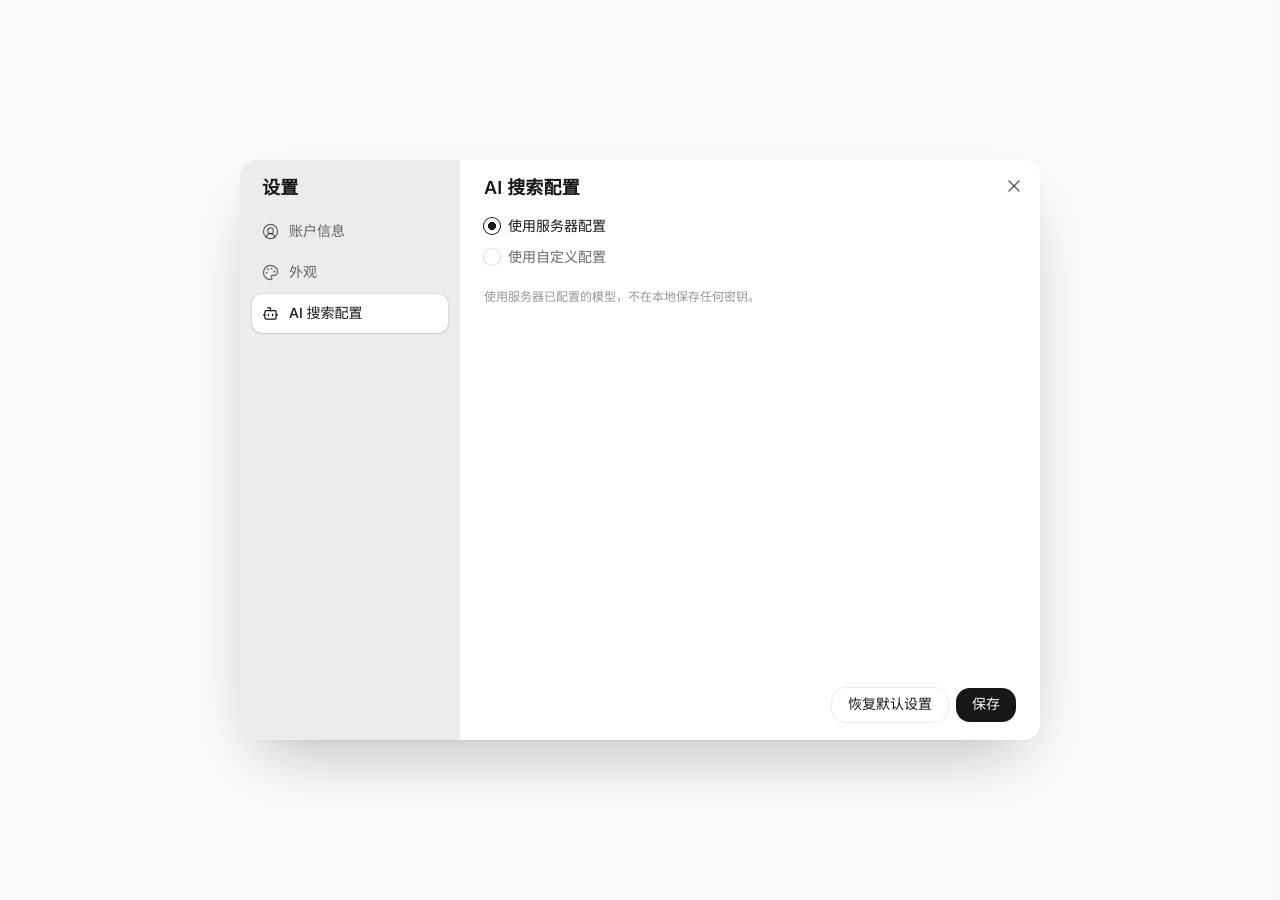
SettingsModal 语言下拉：点击空白收起 › 点击遮罩（弹窗卡片之外）同样收起菜单
Click the button "外观" at (350, 272), box [252,253,448,292]
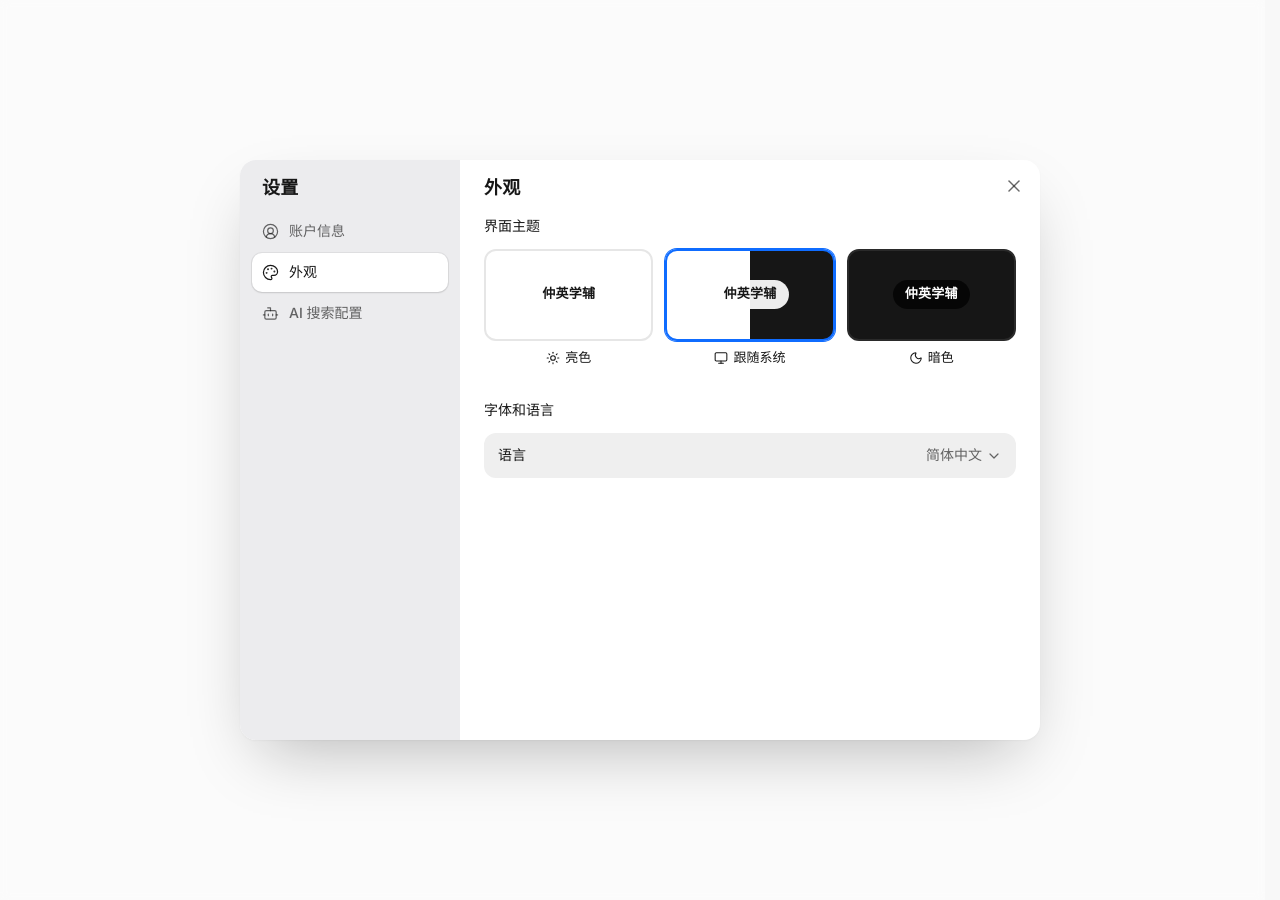
expect the text "字体和语言" is shown: met, box [484,402,554,419]
Click the button "语言 简体中文" at (954, 456), box [484,433,1016,478]
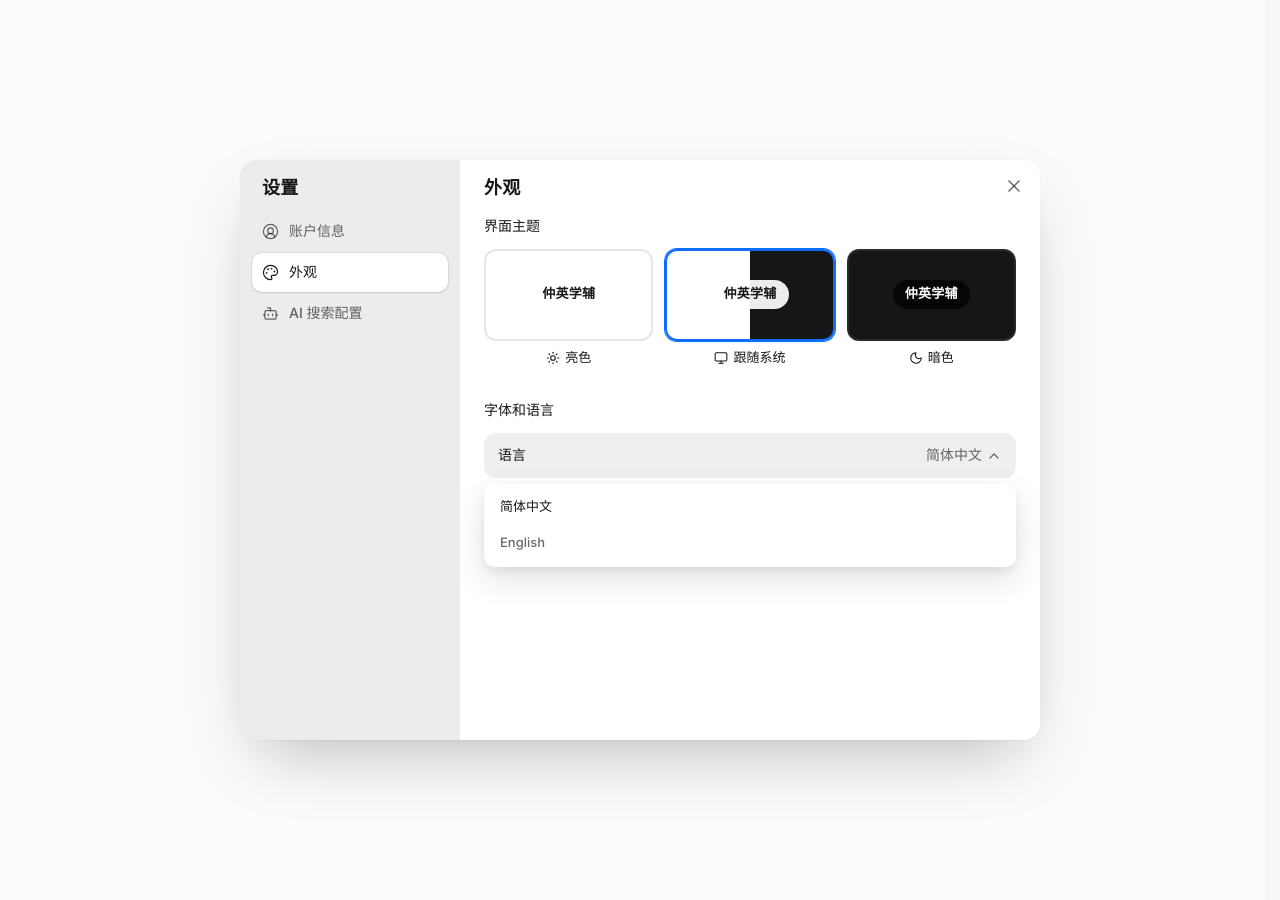
expect the list with class "settings-lang-menu" is shown: met, box [484,484,1016,567]
Press the mouse on the dialog with class "settings-backdrop" at (640, 450), box [0,0,1279,899]
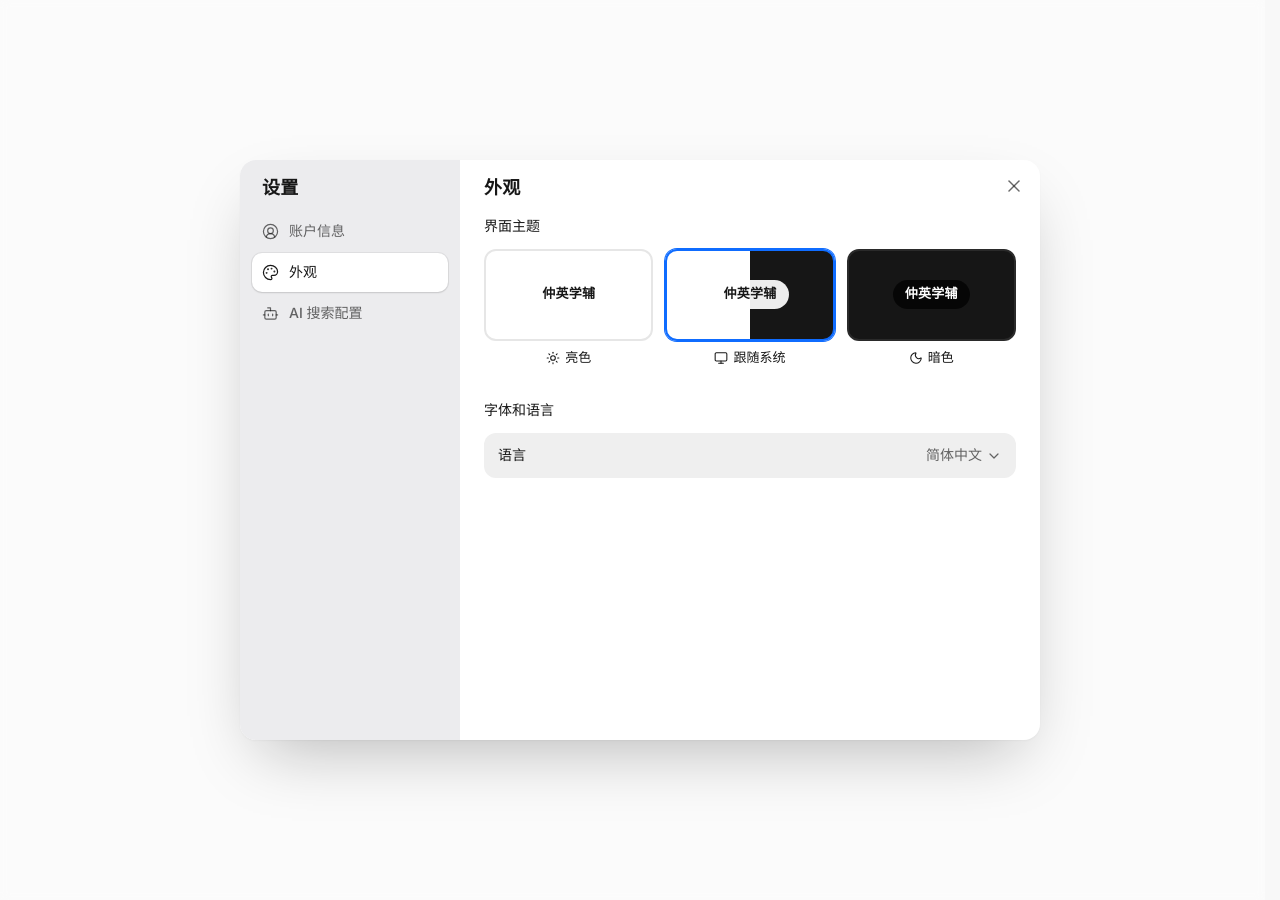
expect the list with class "settings-lang-menu" is gone: met
